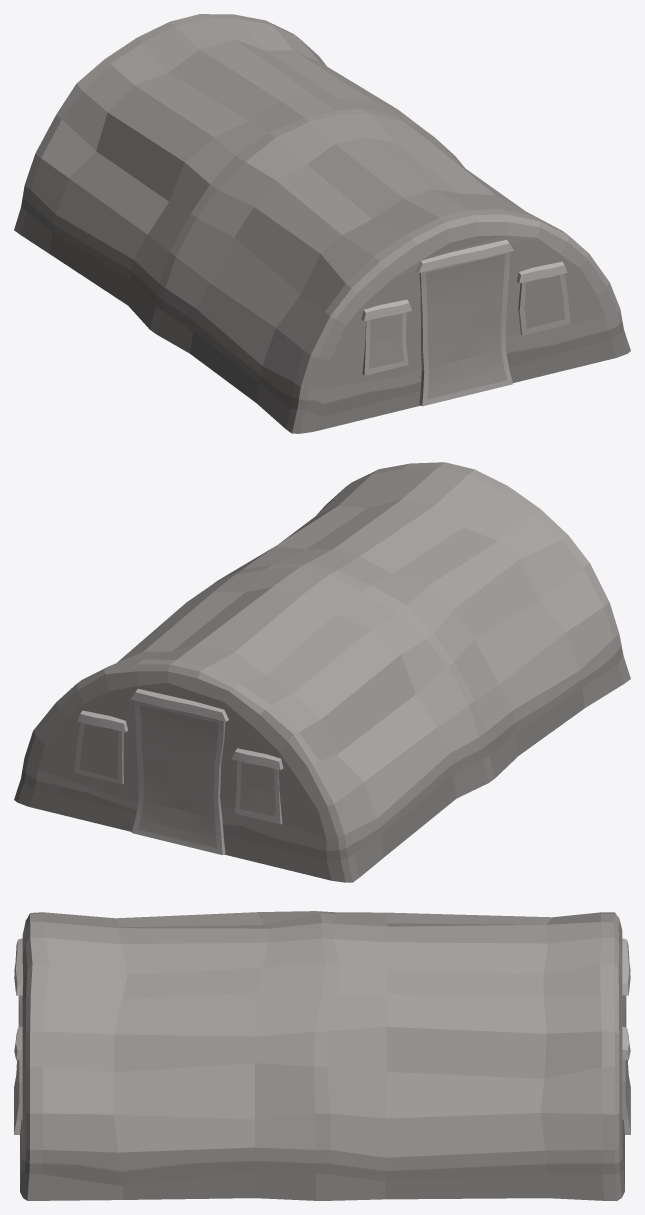
Rendered from SM_Bld_Tent_Refugee_Closed_01.glb.
The picture shows the model from 3 angles, top to bottom: view 1: azimuth 30°, elevation 25°; view 2: azimuth 150°, elevation 25°; view 3: azimuth 270°, elevation 25°; orthographic projection. The views are drawn at different scales.
Parts seen in each view (by area): view 1: SM_Bld_Tent_Refugee_Closed_01; view 2: SM_Bld_Tent_Refugee_Closed_01; view 3: SM_Bld_Tent_Refugee_Closed_01.
Part boxes in pixels (x1=…): SM_Bld_Tent_Refugee_Closed_01: x1=14, y1=14, x2=630, y2=433; SM_Bld_Tent_Refugee_Closed_01: x1=14, y1=462, x2=630, y2=882; SM_Bld_Tent_Refugee_Closed_01: x1=14, y1=911, x2=630, y2=1200.
Bounding box in the file's own units: 5.94 × 2.9 × 8.81.
1 material, 1 textured.
